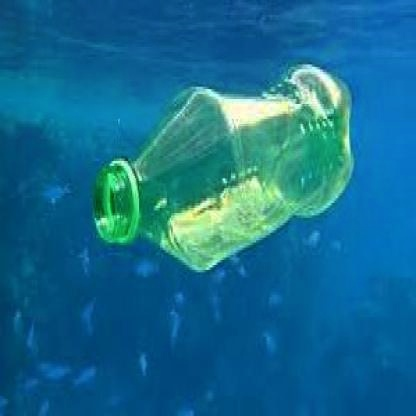pbottle: (78, 49, 356, 280)
